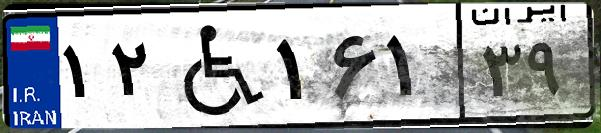1: (270, 28, 330, 110), (385, 28, 445, 110), (57, 26, 110, 100)
2: (110, 28, 158, 98)
3: (475, 38, 525, 113)
6: (330, 28, 385, 110)
9: (525, 38, 570, 115)
ژ (معلولین و جانبازان): (158, 12, 270, 120)
